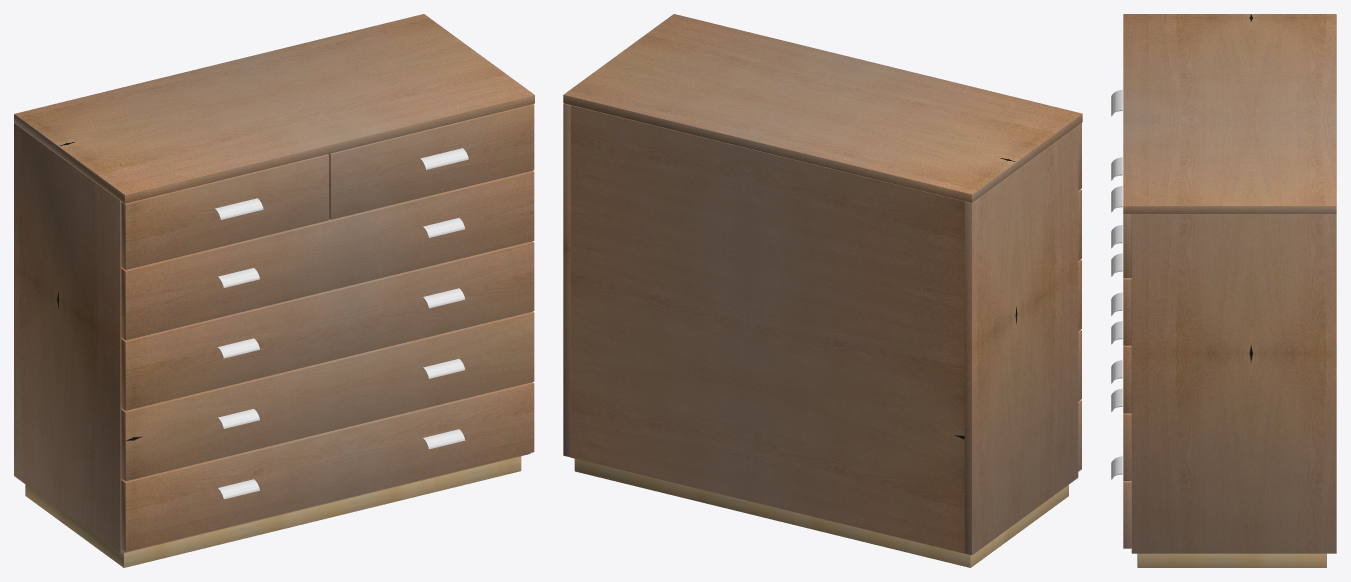
Rendered from recM8w8zLbAzteNyu.glb.
3 views of the same model, side by side, from view 1: azimuth 30°, elevation 25°; view 2: azimuth 150°, elevation 25°; view 3: azimuth 270°, elevation 25° (orthographic). The views are drawn at different scales.
Parts seen in each view (by area): view 1: Commode_Entree_Corps; view 2: Commode_Entree_Corps; view 3: Commode_Entree_Corps.
Part boxes in pixels (x1,y1,x2,y2): Commode_Entree_Corps: [14, 14, 534, 567]; Commode_Entree_Corps: [563, 14, 1082, 567]; Commode_Entree_Corps: [1111, 14, 1336, 567].
Size of the model in its own units: 0.96 by 0.85 by 0.475.
Materials: 3 (2 with a texture image).
